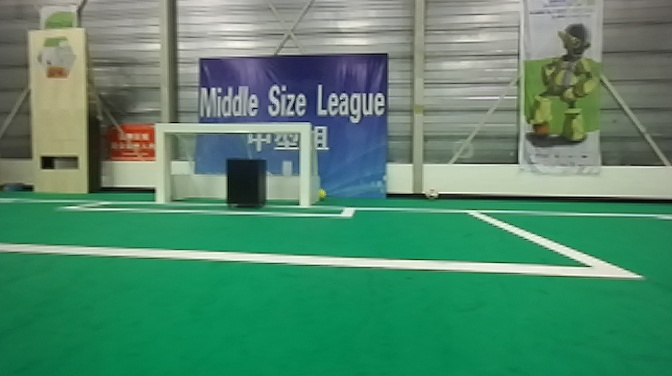ball: (425, 182, 438, 198), (316, 187, 327, 202)
goalpost: (151, 122, 172, 202), (295, 122, 314, 205)
